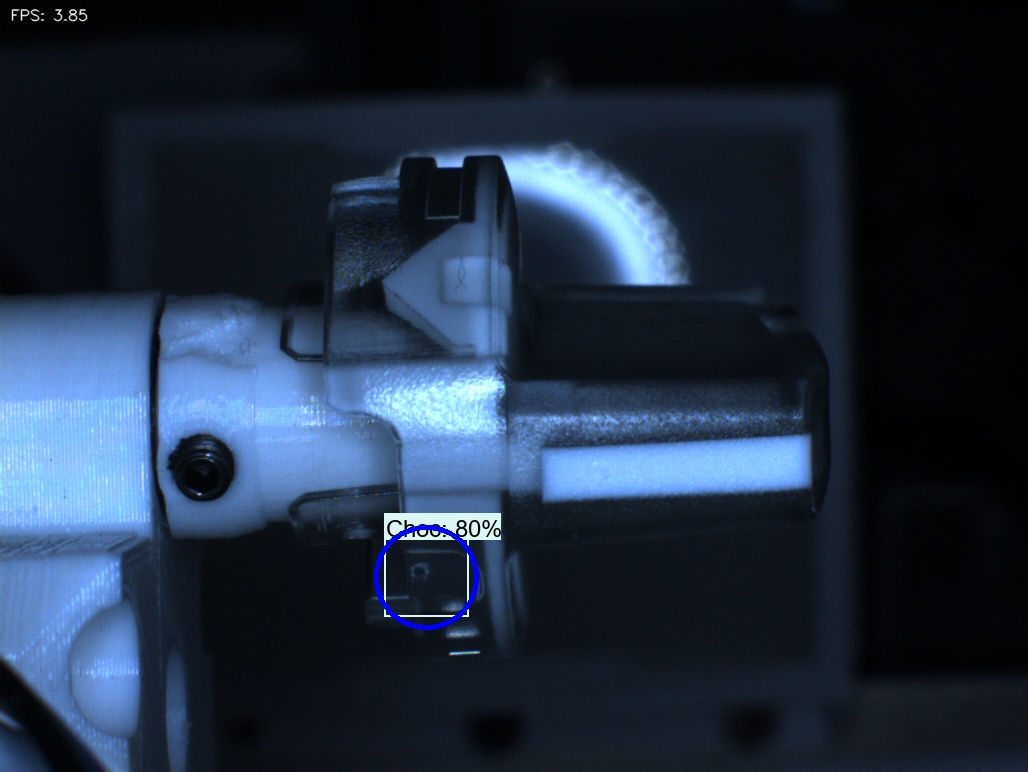DentOk: (353, 233, 429, 340)
